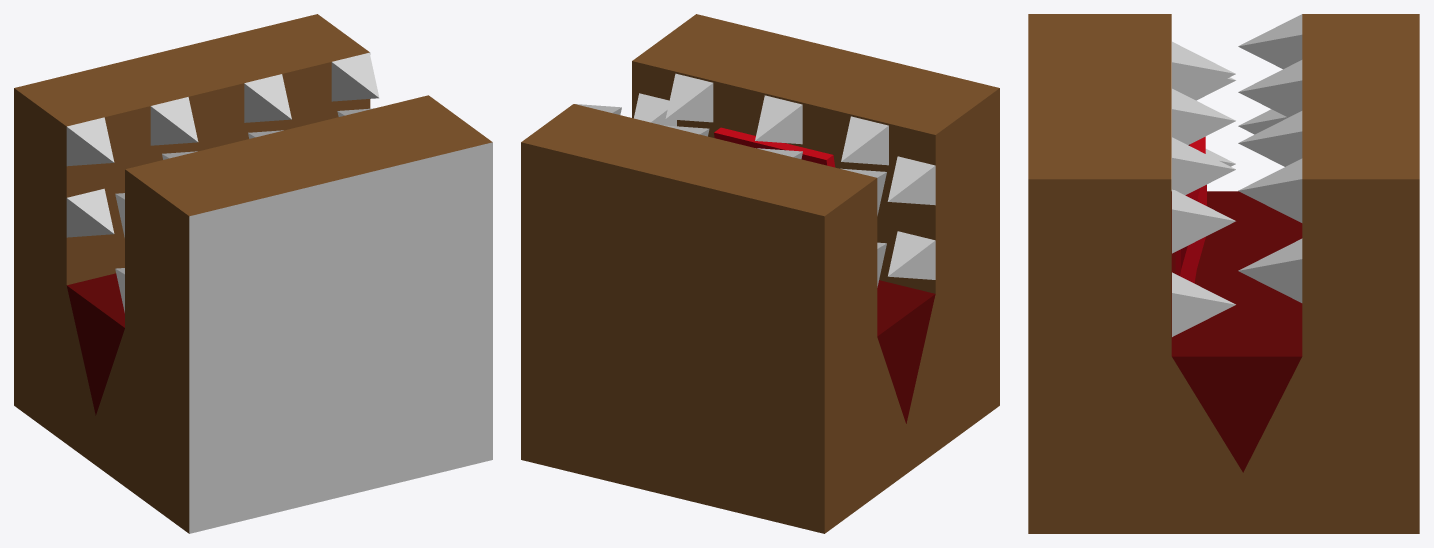
The model's file is enemy_normal.fbx.
The picture shows the model from 3 angles, left to right: view 1: azimuth 30°, elevation 25°; view 2: azimuth 150°, elevation 25°; view 3: azimuth 270°, elevation 25°; orthographic projection. The views are drawn at different scales.
Parts seen in each view (by area): view 1: Cube; view 2: Cube; view 3: Cube.
Boxes of the visible parts, x1=… form: Cube: x1=14, y1=14, x2=492, y2=533; Cube: x1=521, y1=14, x2=999, y2=533; Cube: x1=1028, y1=14, x2=1419, y2=533.
Bounding box in the file's own units: 200 × 200 × 200.
